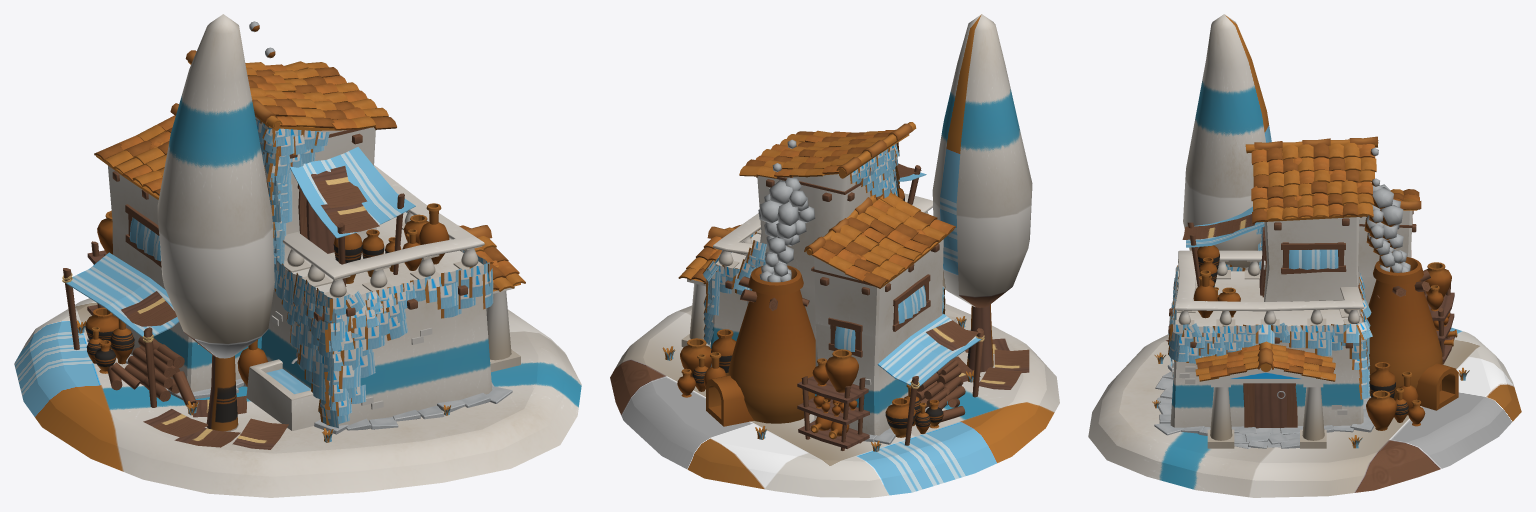
The picture shows the model from 3 angles, left to right: view 1: azimuth 30°, elevation 25°; view 2: azimuth 150°, elevation 25°; view 3: azimuth 270°, elevation 25°; orthographic projection. The views are drawn at different scales.
Parts seen in each view (by area): view 1: Greek_Potter_Vegetation, Greek_Potter_House and_Props_House_0; view 2: Greek_Potter_Vegetation, Greek_Potter_House and_Props_House_0; view 3: Greek_Potter_House and_Props_House_0, Greek_Potter_Vegetation.
Boxes of the visible parts, x1,y1,x2,y2 form: Greek_Potter_Vegetation: [14, 14, 581, 497]; Greek_Potter_House and_Props_House_0: [62, 50, 525, 434]; Greek_Potter_Vegetation: [610, 14, 1059, 497]; Greek_Potter_House and_Props_House_0: [677, 122, 984, 450]; Greek_Potter_House and_Props_House_0: [1154, 136, 1458, 448]; Greek_Potter_Vegetation: [1088, 14, 1521, 497].
Size of the model in its own units: 79.03 by 70.91 by 80.57.
1 material, 1 textured.
